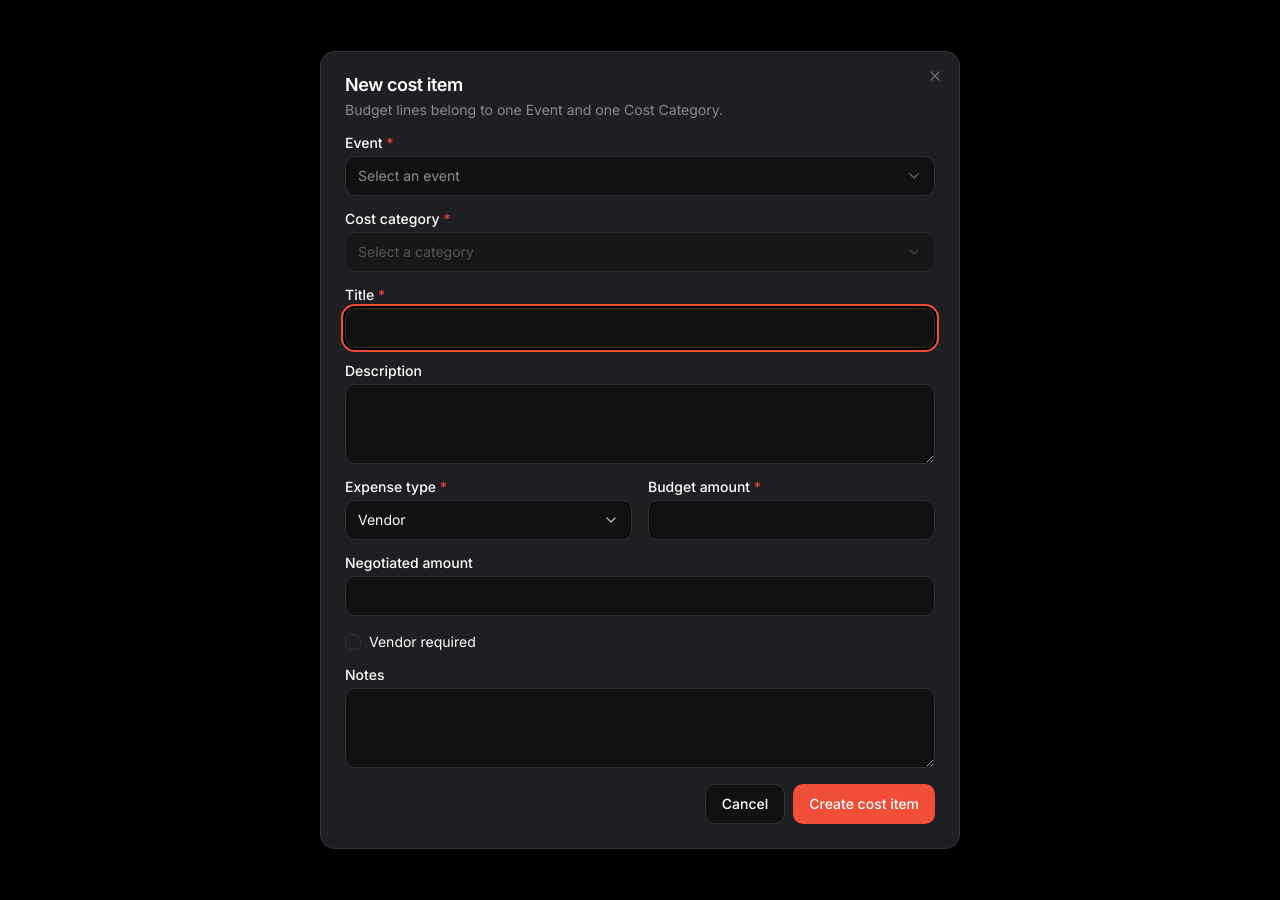
it: cost items feature › shows a validation error when title is empty
The image size is (1280, 900).
Click the button "Create cost item" at (864, 804), box [793, 784, 935, 824]
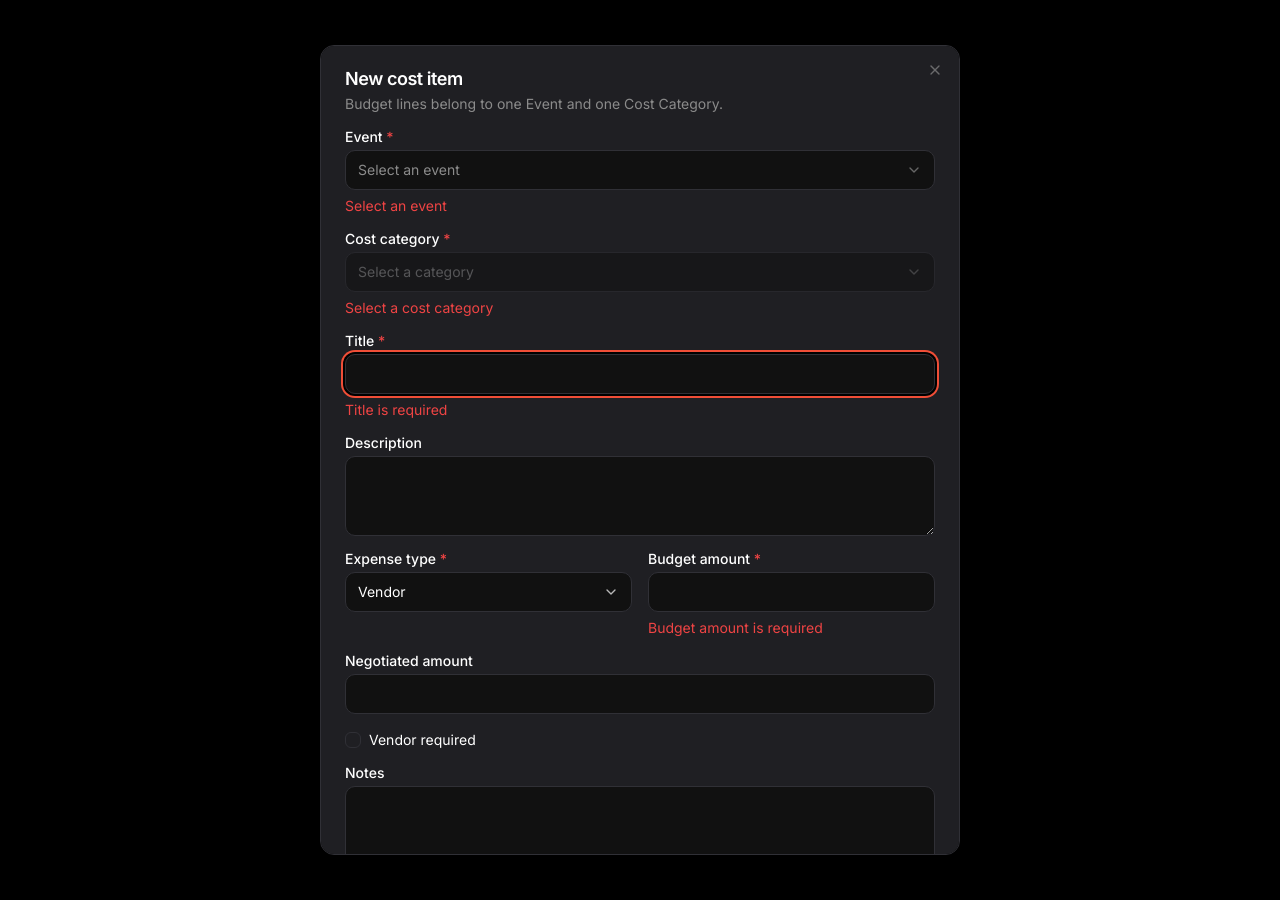
Result: the text "Title is required" is shown at [345, 401, 447, 418]
